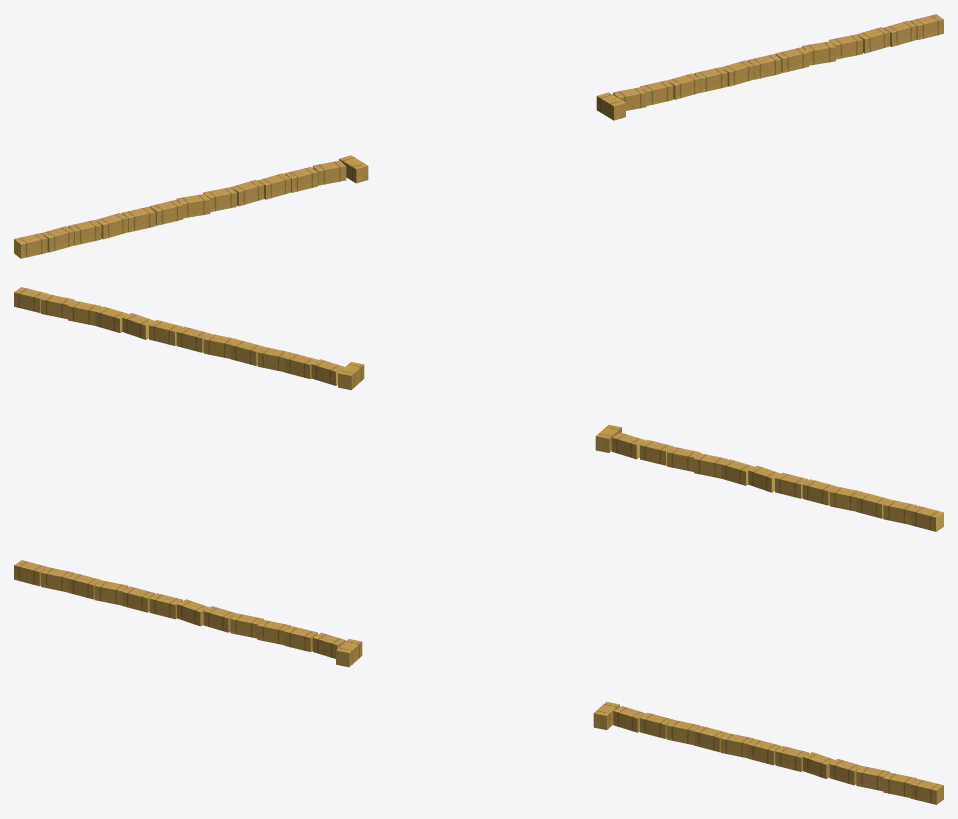
File: hay.fbx
3 views of the same model, one above another, from view 1: azimuth 30°, elevation 25°; view 2: azimuth 150°, elevation 25°; view 3: azimuth 330°, elevation 25° (orthographic).
Parts seen in each view (by area): view 1: Hay2; view 2: Hay2; view 3: Hay2.
Part boxes in pixels (x1=…): Hay2: x1=14, y1=14, x2=943, y2=258; Hay2: x1=14, y1=287, x2=943, y2=531; Hay2: x1=14, y1=560, x2=943, y2=804.
Size of the model in its own units: 71.89 by 1.06 by 2.12.
1 material, 1 textured.
